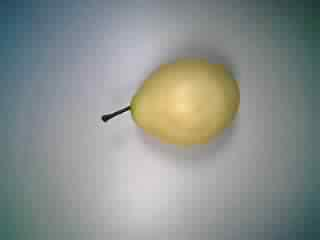pear: (95, 52, 251, 164)
